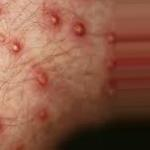Ants: (41, 3, 66, 33), (3, 35, 25, 56), (102, 28, 121, 48), (32, 68, 48, 86), (72, 21, 85, 37), (107, 82, 116, 99), (38, 107, 48, 121), (106, 59, 115, 69)
